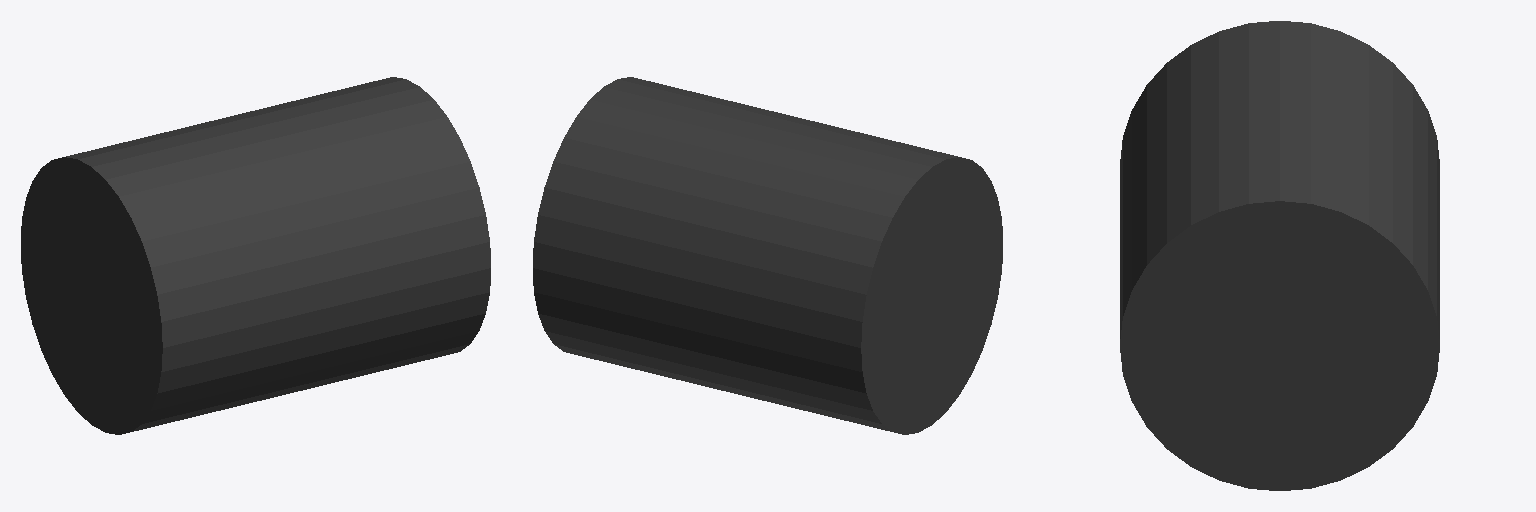
robot.urdf — panda:
<?xml version='1.0' encoding='utf-8'?>
<robot name="panda">

    <link name="link0">
      <inertial>
        <origin xyz="0 0 0.05" rpy="0 0 0" />
        <mass value="4" />
        <inertia ixx="0.4" iyy="0.4" izz="0.4" ixy="0" ixz="0" iyz="0" />
      </inertial>
      <visual>
        <geometry>
          <mesh filename="../../../models/panda/meshes/visual/link0.obj"/>
        </geometry>
      </visual>
    </link>
    <link name="link1">
      <inertial>
        <origin xyz="0 0 -0.07" rpy="0 -0 0" />
        <mass value="3" />
        <inertia ixx="0.3" iyy="0.3" izz="0.3" ixy="0" ixz="0" iyz="0" />
      </inertial>
      <visual>
        <geometry>
          <mesh filename="../../../models/panda/meshes/visual/link1.obj"/>
        </geometry>
      </visual>
    </link>
    <link name="link2">
      <inertial>
        <origin xyz="0 -0.1 0" rpy="0 -0 0" />
        <mass value="3" />
        <inertia ixx="0.3" iyy="0.3" izz="0.3" ixy="0" ixz="0" iyz="0" />
      </inertial>
      <visual>
        <geometry>
          <mesh filename="../../../models/panda/meshes/visual/link2.obj"/>
        </geometry>
      </visual>
    </link>
    <link name="link3">
      <inertial>
        <origin xyz="0.04 0 -0.05" rpy="0 -0 0" />
        <mass value="2" />
        <inertia ixx="0.2" iyy="0.2" izz="0.2" ixy="0" ixz="0" iyz="0" />
      </inertial>
      <visual>
        <geometry>
          <mesh filename="../../../models/panda/meshes/visual/link3.obj"/>
        </geometry>
      </visual>
    </link>
    <link name="link4">
      <inertial>
        <origin xyz="-0.04 0.05 0" rpy="0 -0 0" />
        <mass value="2" />
        <inertia ixx="0.2" iyy="0.2" izz="0.2" ixy="0" ixz="0" iyz="0" />
      </inertial>
      <visual>
        <geometry>
          <mesh filename="../../../models/panda/meshes/visual/link4.obj"/>
        </geometry>
      </visual>   
    </link>
    <link name="link5">
      <inertial>
        <origin xyz="0 0 -0.15" rpy="0 -0 0" />
        <mass value="2" />
        <inertia ixx="0.2" iyy="0.2" izz="0.2" ixy="0" ixz="0" iyz="0" />
      </inertial>
      <visual>
        <geometry>
          <mesh filename="../../../models/panda/meshes/visual/link5.obj"/>
        </geometry>
      </visual>
    </link>
    <link name="link6">
      <inertial>
        <origin xyz="0.06 0 0" rpy="0 -0 0" />
        <mass value="1.5" />
        <inertia ixx="0.1" iyy="0.1" izz="0.1" ixy="0" ixz="0" iyz="0" />
      </inertial>
      <visual>
        <geometry>
          <mesh filename="../../../models/panda/meshes/visual/link6.obj"/>
        </geometry>
      </visual>
    </link>
    <link name="link7">
      <inertial>
        <origin xyz="0 0 0.17" rpy="0 -0 0" />
        <mass value="1.8" />
        <inertia ixx="0.09" iyy="0.05" izz="0.07" ixy="0" ixz="0" iyz="0" />
      </inertial>
      <visual>
        <geometry>
          <mesh filename="../../../models/panda/meshes/visual/link7.obj"/>
        </geometry>
      </visual>
      <!-- <visual>
        <origin xyz="0.0 0.0 0.107" rpy="0.0 0.0 0.0"/>
        <geometry>
          <cylinder radius="0.0375" length="0.045"/>
        </geometry>
      </visual> -->
      <!-- <visual>
        <origin xyz="0.0 0.0 0.152" rpy="0.0 0.0 0.0"/>
        <geometry>
          <cylinder radius="0.0325" length="0.013" />
        </geometry>
        <material name = "gray">
          <color rgba="0.2 0.2 0.2 1.0"/>
        </material>
      </visual> -->
      <visual>
        <origin xyz="0 0 0.187" rpy="0 0 0" />
        <geometry>
            <mesh filename="../../../models/panda/meshes/visual/hand.obj"/>
        </geometry>
      </visual>
      <visual name="">
          <origin xyz="0.0 0.0 0.147" rpy="0.0 0.0 0.0"/>
          <geometry>
              <cylinder radius="0.03" length="0.08"/>
          </geometry>
          <material name="black">
              <color rgba="0.3 0.3 0.3 1.0"/>
          </material>
      </visual>
      <!-- <collision>
        <origin xyz="0.0 0.0 0.152" rpy="0.0 0.0 0.0"/>
        <geometry>
          <cylinder radius="0.0325" length="0.013" />
        </geometry>
        <material name = "gray">
          <color rgba="0.2 0.2 0.2 1.0"/>
        </material>
      </collision> -->
      <!-- <collision>
        <origin xyz="0.0 0.0 0.1" rpy="0.0 0.0 0.0"/>
        <geometry>
          <cylinder radius="0.0375" length="0.02" />
        </geometry>
      </collision> -->
    </link>
    <!-- <link name="force_sensor_adapter">
        <inertial>
            <origin xyz="0.0 0.0 0.0" rpy="0.0 0.0 0.0"/>
            <mass value="0.0"/>
            <inertia ixx="0.0" ixy="0.0" ixz="0.0" iyy="0.0" iyz="0.0" izz="0.0"/>
        </inertial>
        <visual name="">
            <origin xyz="0.0 0.0 0.0" rpy="0.0 0.0 0.0"/>
            <geometry>
                <cylinder radius="0.0375" length="0.08"/>
            </geometry>
            <material name="black">
                <color rgba="0.3 0.3 0.3 1.0"/>
            </material>
        </visual>
        <visual>
            <origin xyz="0 0 0.08" rpy="0 0 0" />
            <geometry>
                <mesh filename="../../../models/panda/meshes/visual/hand.obj"/>
            </geometry>
      </visual>
    </link> -->
    <link name="leftfinger">
      <inertial>
        <origin xyz="0 0 0.05" rpy="0 -0 0" />
        <mass value="0.1" />
        <inertia ixx="0.01" iyy="0.01" izz="0.005" ixy="0" ixz="0" iyz="0" />
      </inertial>
      <visual>
        <geometry>
          <mesh filename="../../../models/panda/meshes/visual/finger.obj"/>
        </geometry>
      </visual>
      <collision>
        <geometry>
          <mesh filename="../../../models/panda/meshes/collision/finger.obj"/>
        </geometry>
      </collision>
    </link>
    <link name="rightfinger">
      <inertial>
        <origin xyz="0 0 0.05" rpy="0 -0 0" />
        <mass value="0.1" />
        <inertia ixx="0.01" iyy="0.01" izz="0.005" ixy="0" ixz="0" iyz="0" />
      </inertial>
      <visual>
        <origin xyz="0 0 0" rpy="0 0 3.14159265359"/>
        <geometry>
          <mesh filename="../../../models/panda/meshes/visual/finger.obj"/>
        </geometry>
      </visual>
      <collision>
        <origin xyz="0 0 0" rpy="0 0 3.14159265359"/>
        <geometry>
          <mesh filename="../../../models/panda/meshes/collision/finger.obj"/>
        </geometry>
      </collision>
    </link>

    <joint name="joint1" type="revolute">
      <safety_controller k_position="100.0" k_velocity="40.0" soft_lower_limit="-2.8973" soft_upper_limit="2.8973"/>
      <origin rpy="0 0 0" xyz="0 0 0.333"/>
      <parent link="link0"/>
      <child link="link1"/>
      <axis xyz="0 0 1"/>
      <calibration falling="0.0" />
      <limit effort="87" lower="-2.8973" upper="2.8973" velocity="2.1750"/>
    </joint>
    <joint name="joint2" type="revolute">
      <safety_controller k_position="100.0" k_velocity="40.0" soft_lower_limit="-1.7628" soft_upper_limit="1.7628"/>
      <origin rpy="-1.57079632679 0 0" xyz="0 0 0"/>
      <parent link="link1"/>
      <child link="link2"/>
      <axis xyz="0 0 1"/>
      <calibration falling="-25.0" />
      <limit effort="87" lower="-1.7628" upper="1.7628" velocity="2.1750"/>
    </joint>
    <joint name="joint3" type="revolute">
      <safety_controller k_position="100.0" k_velocity="40.0" soft_lower_limit="-2.8973" soft_upper_limit="2.8973"/>
      <origin rpy="1.57079632679 0 0" xyz="0 -0.316 0"/>
      <parent link="link2"/>
      <child link="link3"/>
      <axis xyz="0 0 1"/>
      <limit effort="87" lower="-2.8973" upper="2.8973" velocity="2.1750"/>
    </joint>
    <joint name="joint4" type="revolute">
      <safety_controller k_position="100.0" k_velocity="40.0" soft_lower_limit="-3.0718" soft_upper_limit="-0.0698"/>
      <origin rpy="1.57079632679 0 0" xyz="0.0825 0 0"/>
      <parent link="link3"/>
      <child link="link4"/>
      <axis xyz="0 0 1"/>
      <calibration falling="-135.0" />
      <limit effort="87" lower="-3.0718" upper="-0.0698" velocity="2.1750"/>
    </joint>
    <joint name="joint5" type="revolute">
      <safety_controller k_position="100.0" k_velocity="40.0" soft_lower_limit="-2.8973" soft_upper_limit="2.8973"/>
      <origin rpy="-1.57079632679 0 0" xyz="-0.0825 0.384 0"/>
      <parent link="link4"/>
      <child link="link5"/>
      <axis xyz="0 0 1"/>
      <calibration falling="0.0" />
      <limit effort="12" lower="-2.8973" upper="2.8973" velocity="2.6100"/>
    </joint>
    <joint name="joint6" type="revolute">
      <safety_controller k_position="100.0" k_velocity="40.0" soft_lower_limit="-0.0175" soft_upper_limit="3.7525"/>
      <origin rpy="1.57079632679 0 0" xyz="0 0 0"/>
      <parent link="link5"/>
      <child link="link6"/>
      <axis xyz="0 0 1"/>
      <calibration falling="105.0" />
      <limit effort="12" lower="-0.0175" upper="3.7525" velocity="2.6100"/>
    </joint>
    <joint name="joint7" type="revolute">
      <safety_controller k_position="100.0" k_velocity="40.0" soft_lower_limit="-2.8973" soft_upper_limit="2.8973"/>
      <origin rpy="1.57079632679 0 0" xyz="0.088 0 0"/>
      <parent link="link6"/>
      <child link="link7"/>
      <axis xyz="0 0 1"/>
      <limit effort="12" lower="-2.8973" upper="2.8973" velocity="2.6100"/>
    </joint>
    <joint name="finger_joint1" type="prismatic">
      <parent link="link7"/>
      <child link="leftfinger"/>
      <origin xyz="0 0 0.2454" rpy="0 0 0"/>
      <axis xyz="0 1 0"/>
      <calibration rising="0.04" />
      <limit effort="20" lower="0.0" upper="0.04" velocity="0.2"/>
    </joint>
    <joint name="finger_joint2" type="prismatic">
      <parent link="link7"/>
      <child link="rightfinger"/>
      <origin xyz="0 0 0.2454" rpy="0 0 0"/>
      <axis xyz="0 1 0"/>
      <calibration rising="-0.04" />
      <limit effort="20" lower="-0.04" upper="0" velocity="0.2"/>
    </joint>
</robot>

--- Render facts (derived) ---
3 views of the same robot in one strip: view 1: azimuth 30°, elevation 25°; view 2: azimuth 150°, elevation 25°; view 3: azimuth 270°, elevation 25° (orthographic).
Robot: panda — 10 links, 9 joints (7 revolute, 2 prismatic); root link link0; default pose: all joints at 0 but 1 set to mid-range because 0 is outside their limits (joint4 = -1.57).
Visible links, largest first — view 1: link7; view 2: link7; view 3: link7.
Boxes of the visible links, x1,y1,x2,y2 form: link7: (21, 77, 490, 434); link7: (533, 77, 1002, 434); link7: (1120, 21, 1439, 490).
Size in the robot's own frame: 0.08 by 0.06 by 0.06 metres.
0 mesh visuals loaded from 10 distinct referenced files (none loaded); not drawn: 11 (reference not matched to a file when rendering).